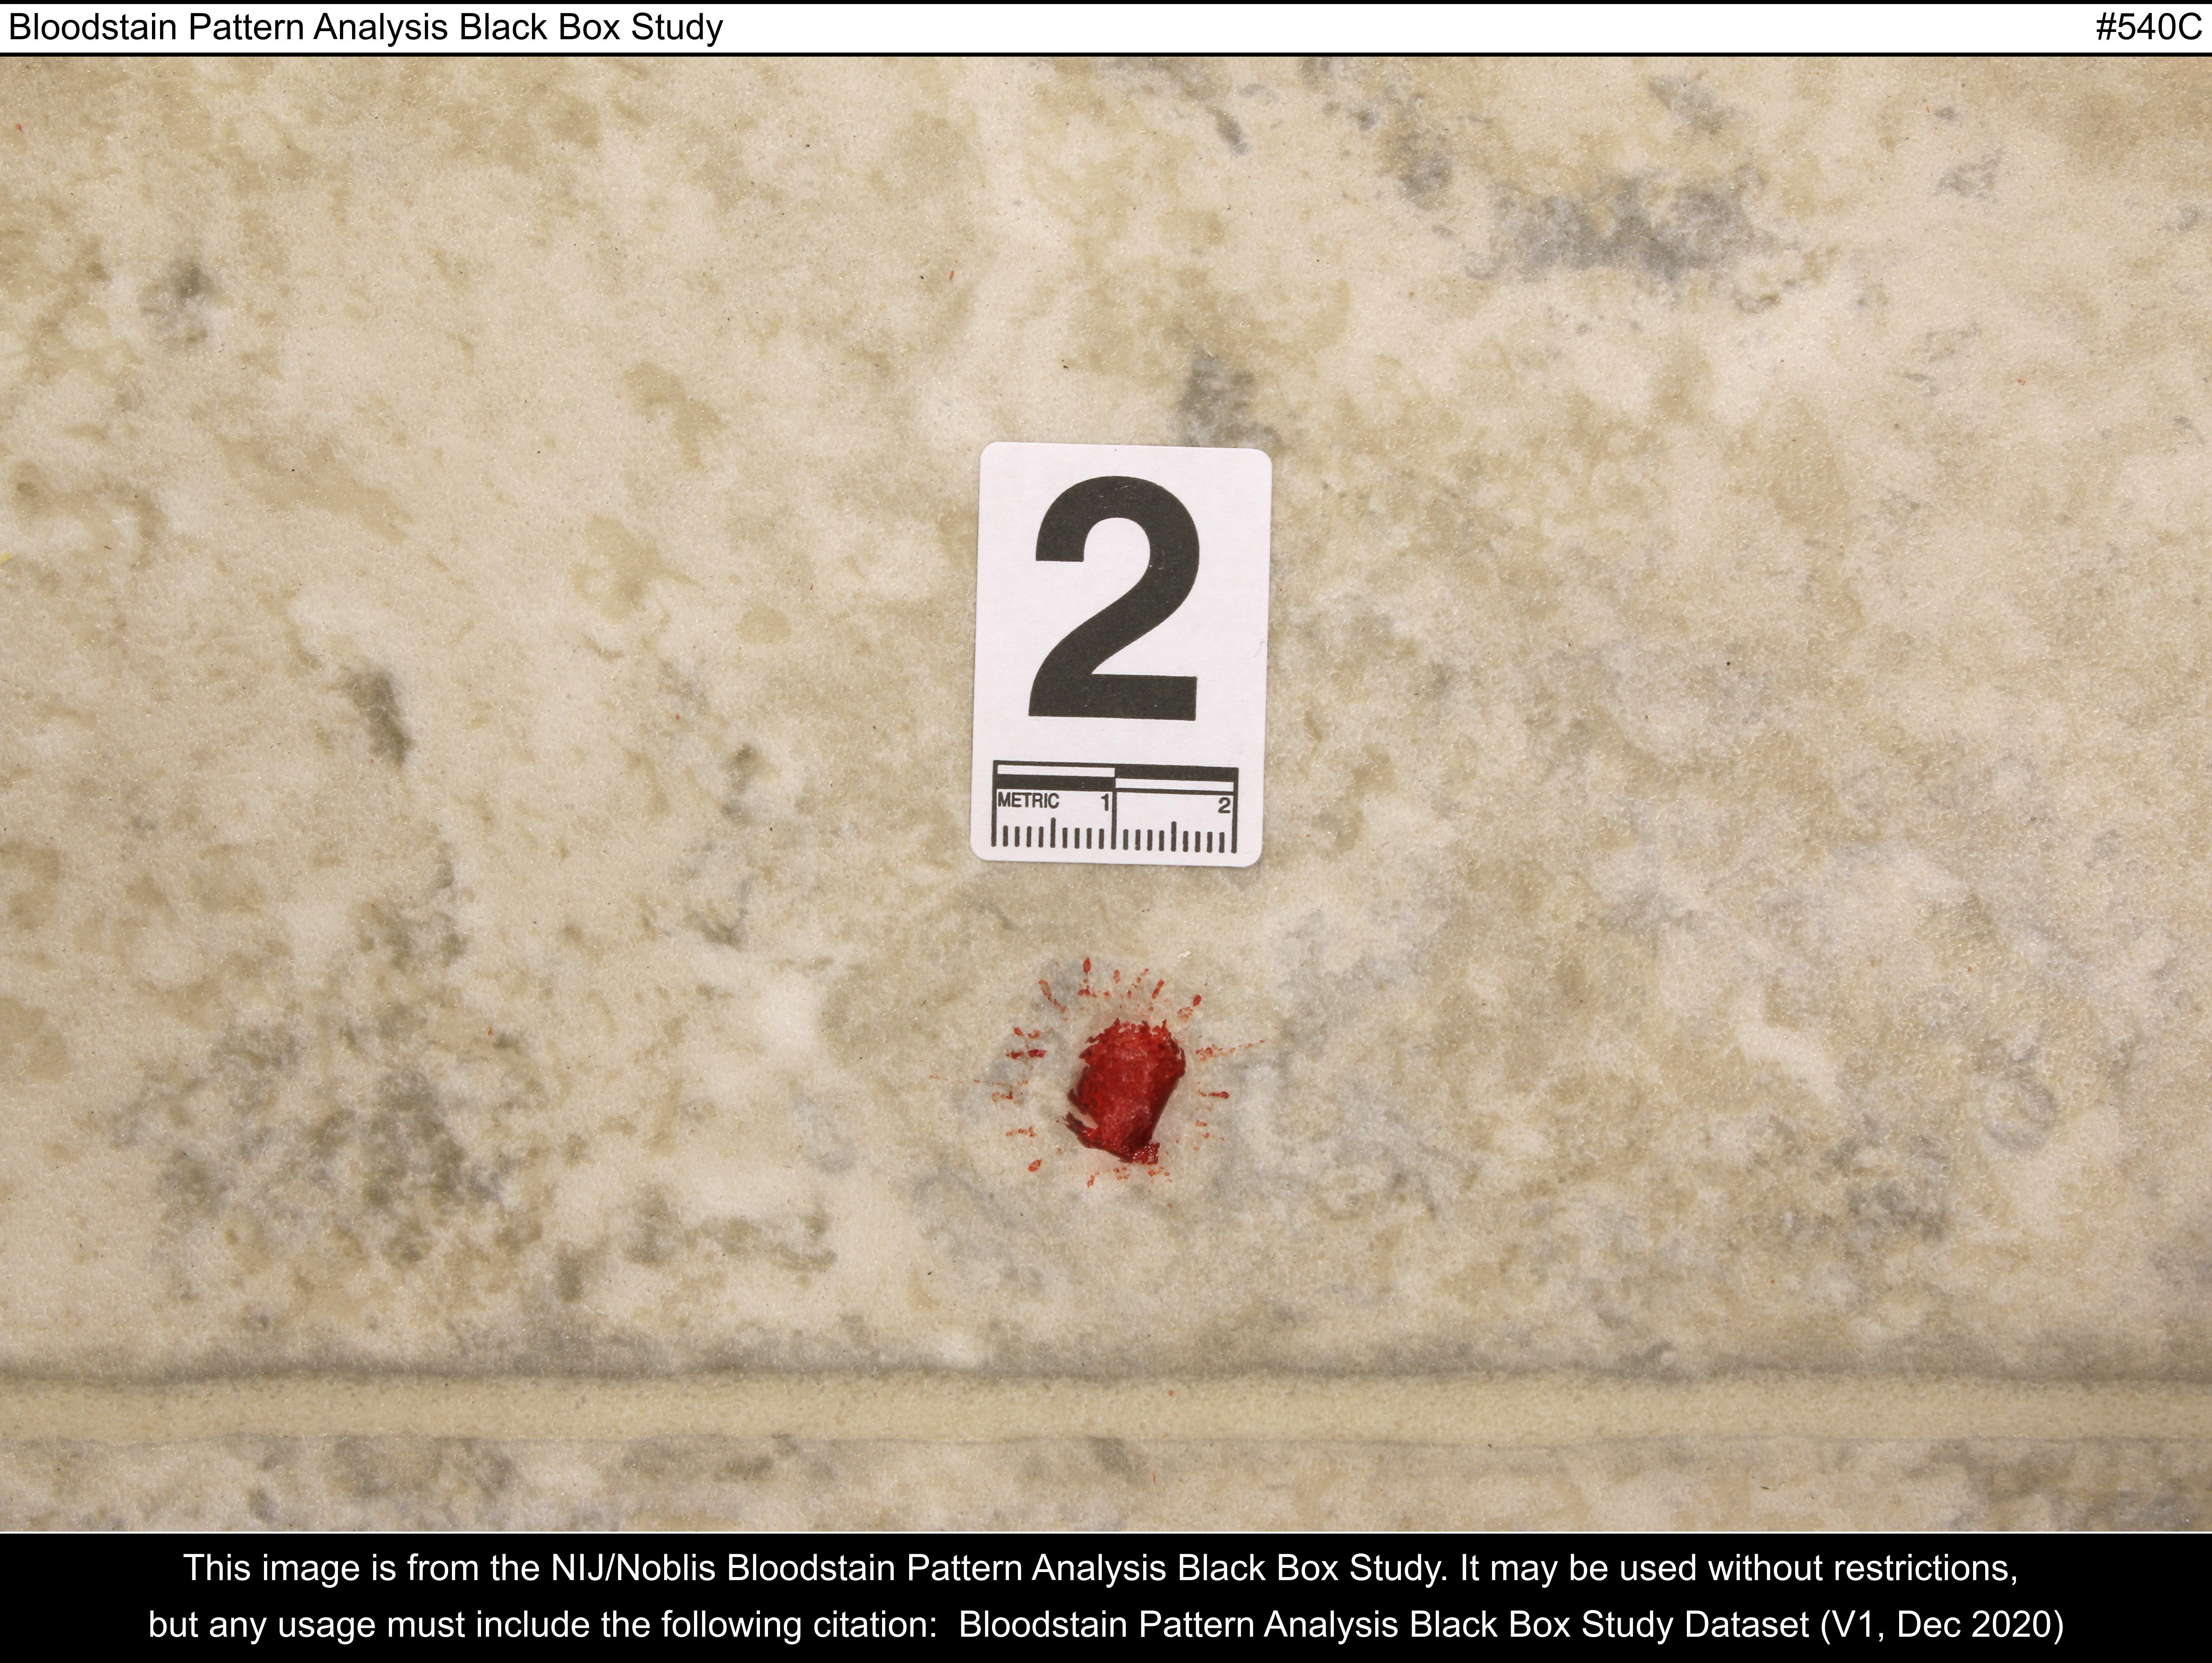Passive: (894, 922, 1285, 1218)
